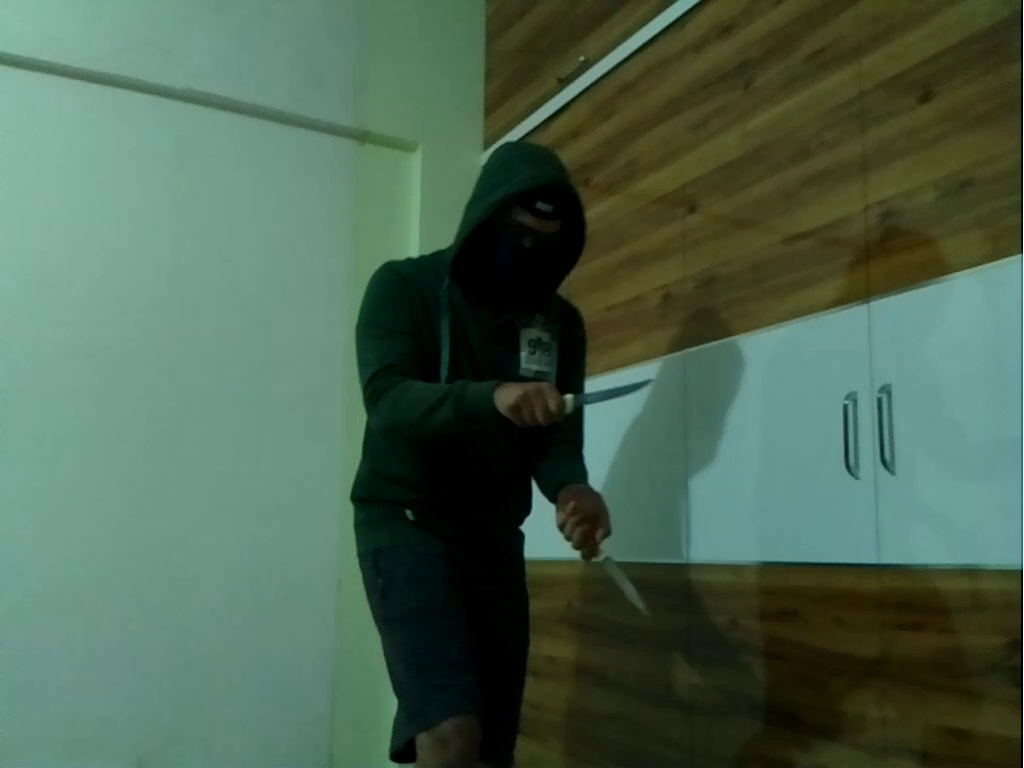knife: (570, 518, 658, 627), (538, 374, 662, 417)
